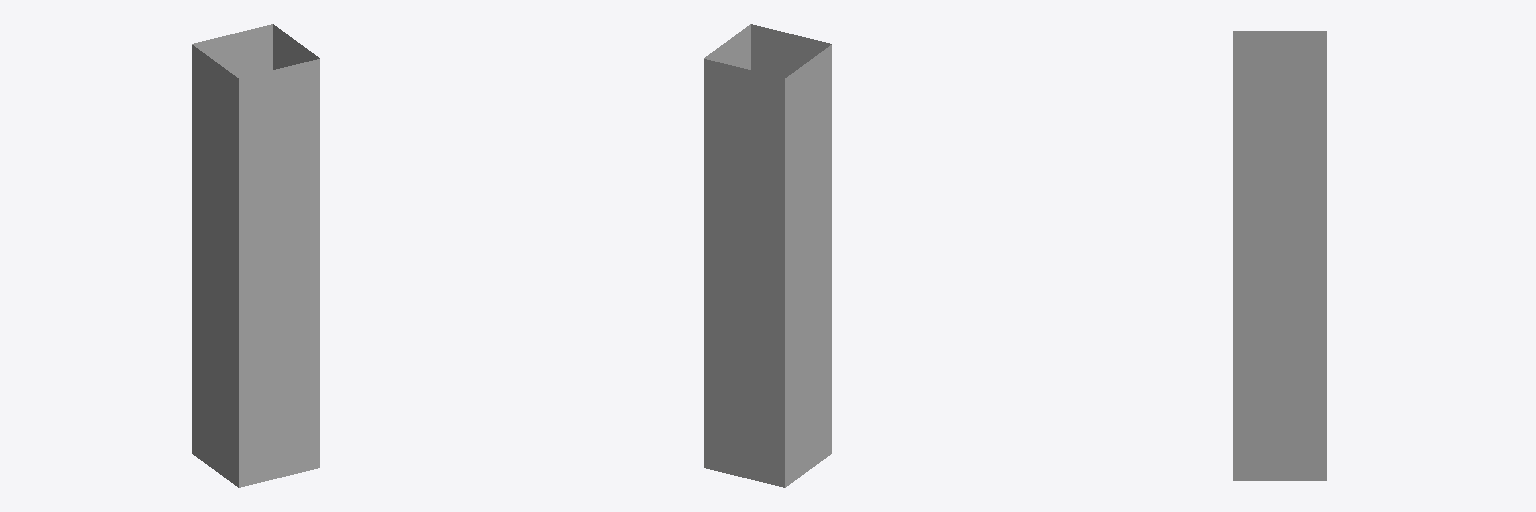
Rendered from StartingElavator.obj.
The picture shows the model from 3 angles: view 1: azimuth 30°, elevation 25°; view 2: azimuth 150°, elevation 25°; view 3: azimuth 270°, elevation 25°; orthographic projection.
Parts seen in each view (by area): view 1: Plane.004_Plane.001; view 2: Plane.004_Plane.001; view 3: Plane.004_Plane.001.
Boxes of the visible parts, box(x1,y1,x2,y2) form: Plane.004_Plane.001: box(192, 24, 319, 487); Plane.004_Plane.001: box(704, 24, 831, 487); Plane.004_Plane.001: box(1233, 31, 1326, 480).
Size of the model in its own units: 3.93 by 18.82 by 3.93.